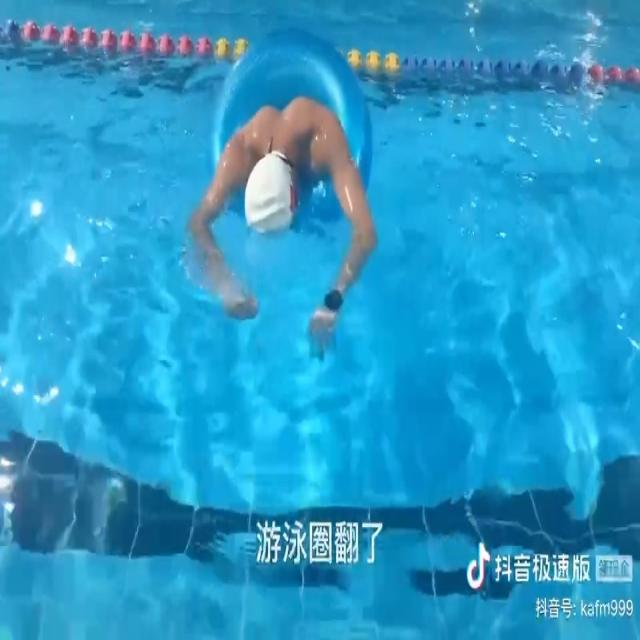Drowning: (188, 93, 380, 362)
